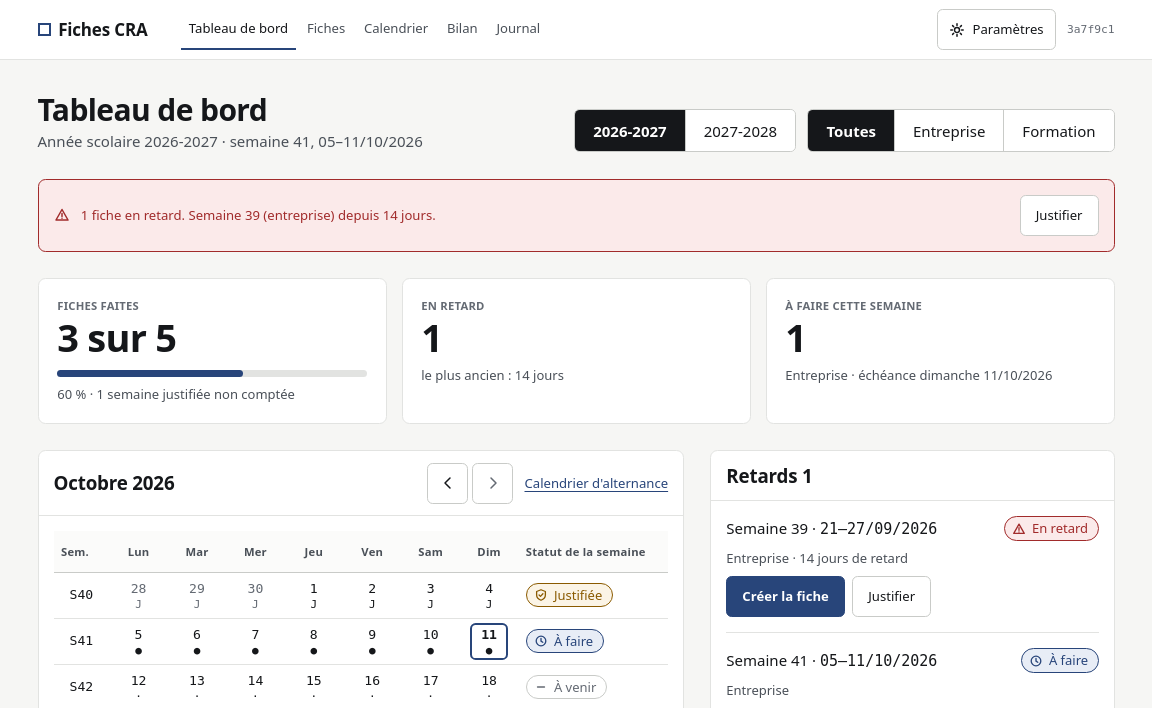
Test case: Tableau de bord › une erreur de motif Autre s'affiche sous le commentaire
The width and height of the screenshot is (1152, 708).
Click the button "Justifier" in the row of "jours." at (1059, 215), box x1=1020 y1=195 x2=1098 y2=236
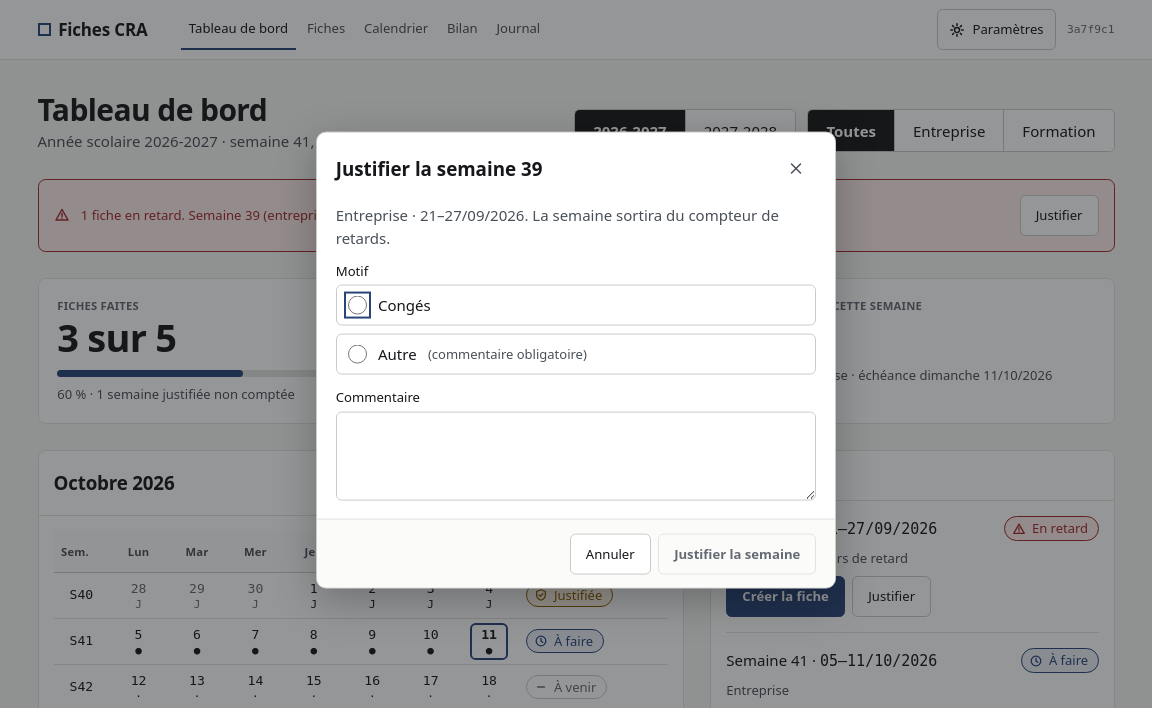
Click the radio button labelled "Autre (commentaire obligatoire)" at (357, 354), box x1=348 y1=344 x2=367 y2=363
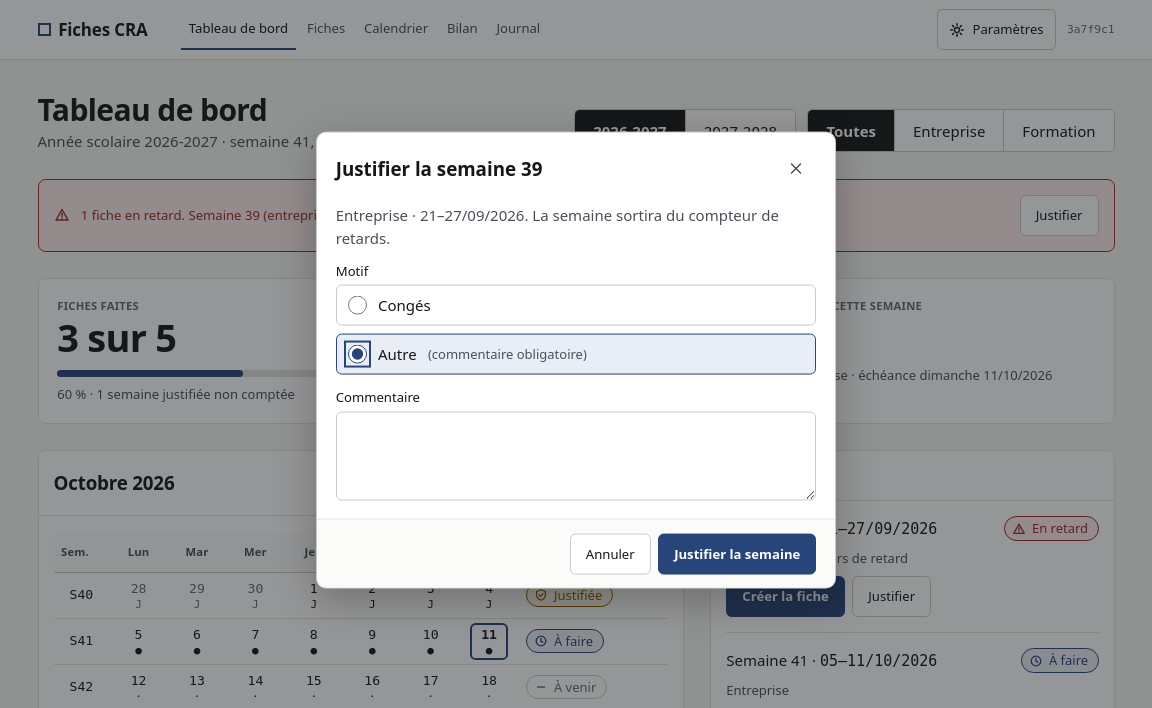
Click the button "Justifier la semaine" at (737, 554), box x1=658 y1=533 x2=816 y2=574
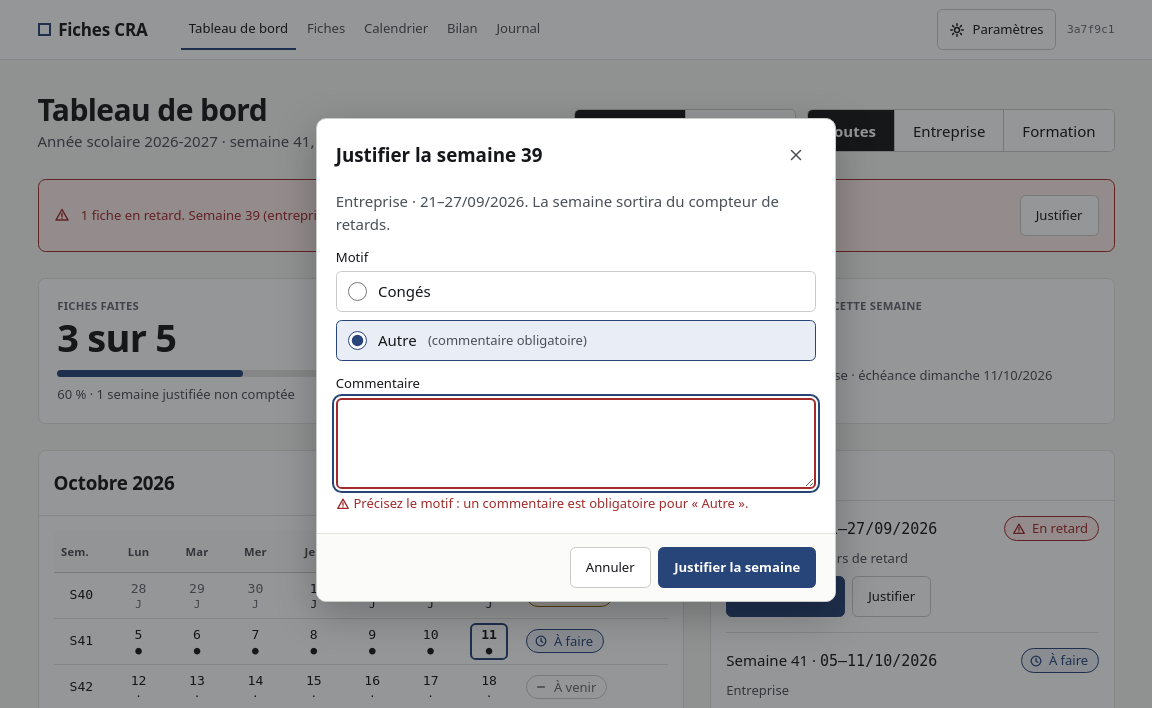
Now the text "un commentaire est obligatoire" is shown, box x1=354 y1=494 x2=748 y2=512
